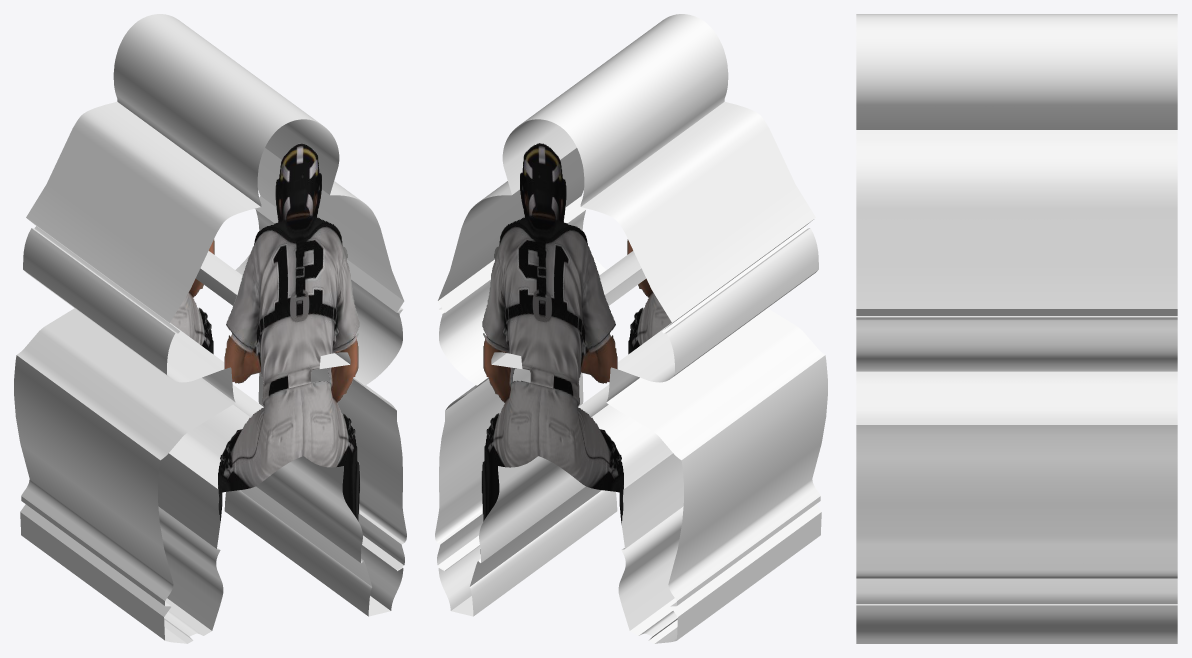
File: catcher.dae
3 renders of one model, left to right at view 1: azimuth 30°, elevation 25°; view 2: azimuth 150°, elevation 25°; view 3: azimuth 270°, elevation 25°, orthographic. The views are drawn at different scales.
Visible parts, largest first — view 1: leeg; view 2: leeg; view 3: leeg.
Part boxes in pixels (box(x1,y1,x2,y2)): leeg: box(14, 14, 406, 643); leeg: box(435, 14, 827, 643); leeg: box(856, 14, 1177, 643).
Size of what is drawn, in the model's own units: 2.84 by 5.6 by 2.84.
Materials: 3 (3 with a texture image).
